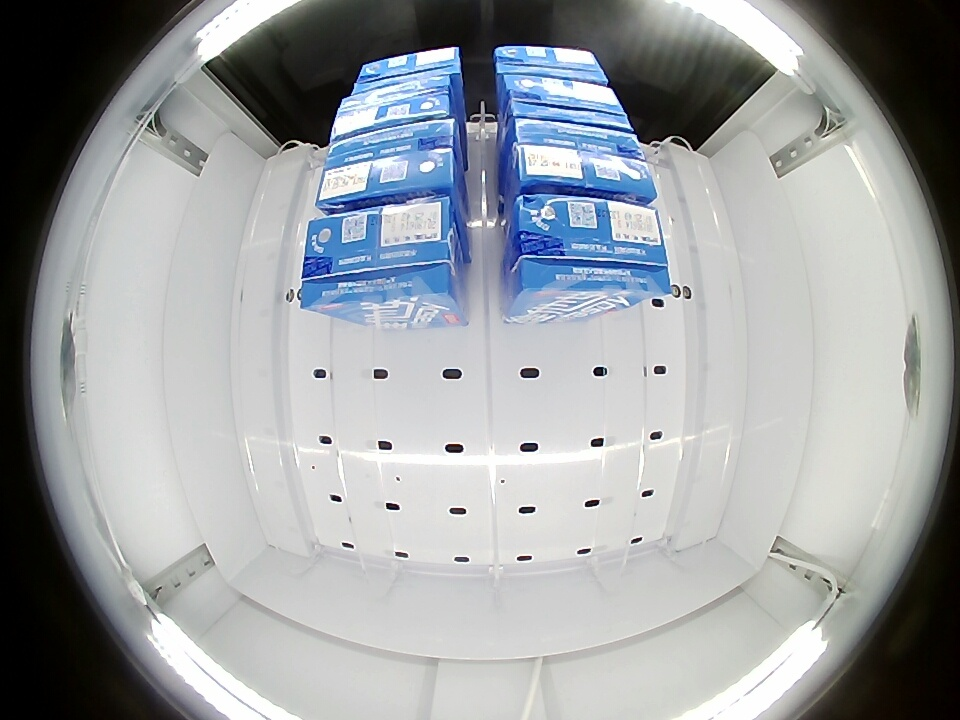weitanai: (299, 196, 465, 318), (506, 194, 672, 308), (315, 119, 464, 211), (502, 117, 659, 203), (330, 77, 462, 141), (499, 73, 634, 135), (492, 44, 609, 89), (353, 47, 464, 94)
